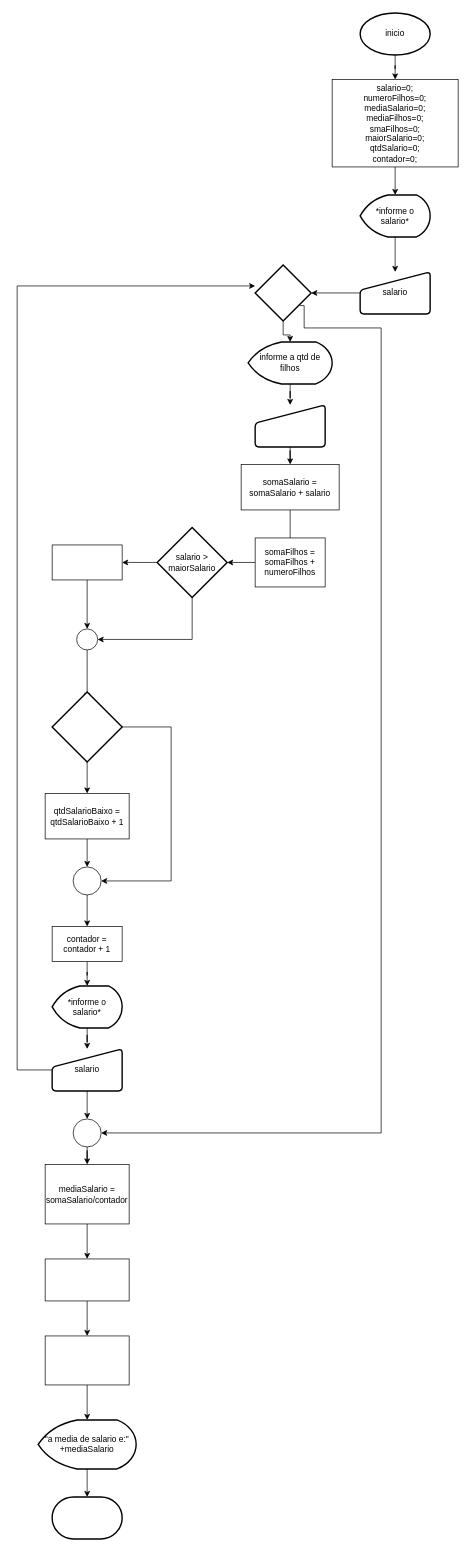
This 470x1551 diagram has some shape labels left out. Here are the shapes that lost their labels. From the top down, the centre of each, then its label:
At (283,292): "salario >=0".
At (290,425): "numeroFilhos".
At (86,562): "maiorSalario = salario".
At (86,726): "salario <= 100".
At (86,1279): "mediaFilhos + somaFilhos/contador".
At (86,1360): "percSalario = (qtdSalarioBaixo*100) /contador".
At (86,1517): "fim".
